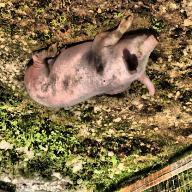boar: (24, 15, 159, 107)
